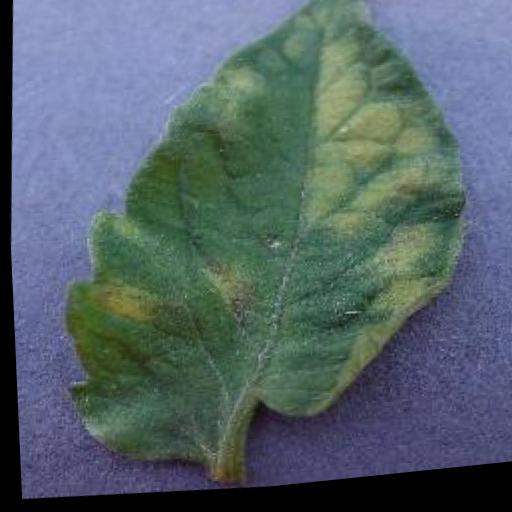Leaf Mold: (47, 0, 485, 487)
